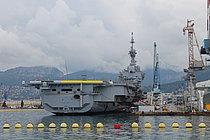MIL_Ship: (20, 31, 145, 118)
